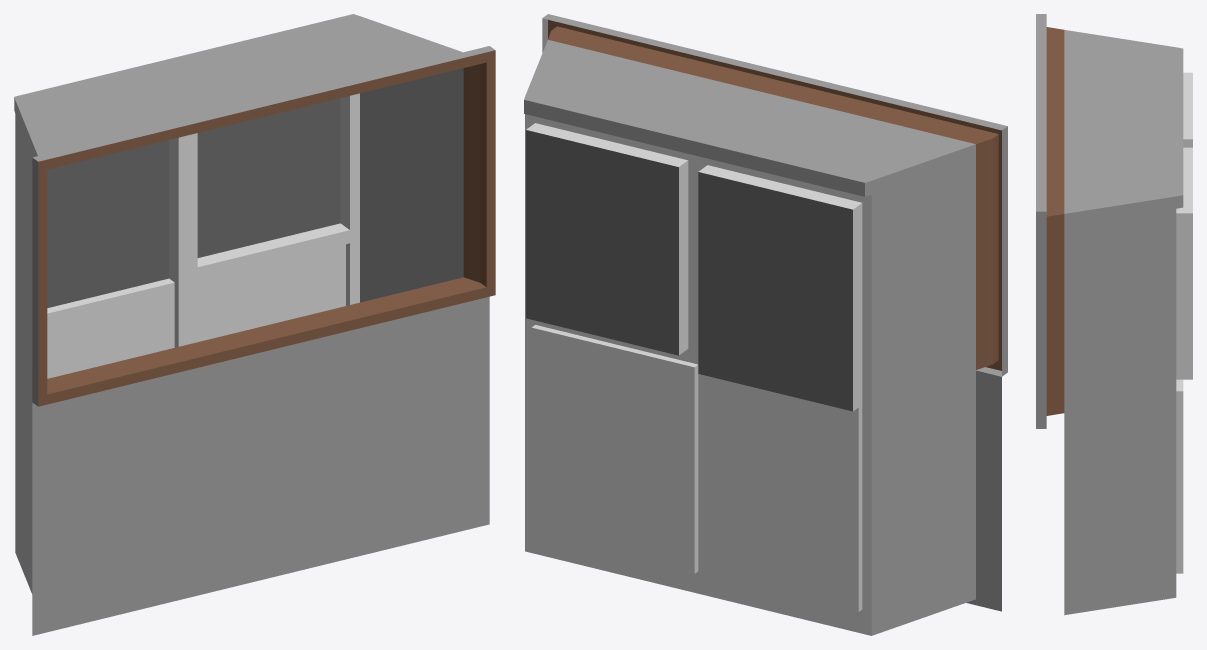
File: S3_Balchony.fbx
3 renders of one model, left to right at view 1: azimuth 30°, elevation 25°; view 2: azimuth 150°, elevation 25°; view 3: azimuth 270°, elevation 25°, orthographic. The views are drawn at different scales.
Visible parts, largest first — view 1: S3_Balchony; view 2: S3_Balchony; view 3: S3_Balchony.
Part boxes in pixels (<box>): S3_Balchony: <box>14,14,495,635</box>; S3_Balchony: <box>524,14,1007,635</box>; S3_Balchony: <box>1036,14,1192,615</box>.
Size of the model in its own units: 30 by 30 by 10.06.
